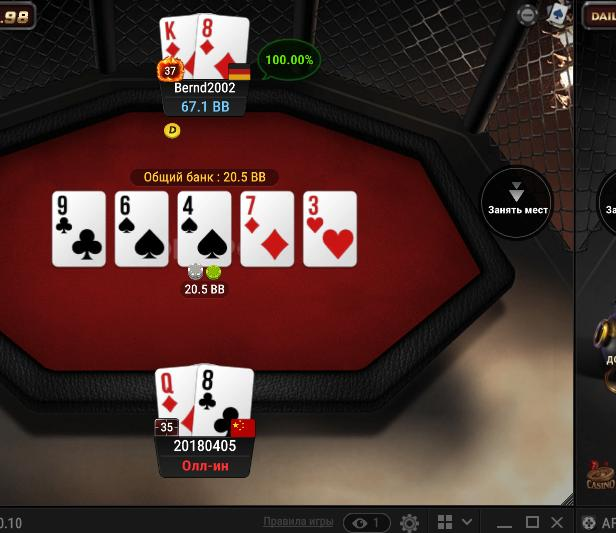3h: (304, 192, 356, 267)
4s: (177, 190, 229, 264)
6s: (116, 193, 167, 267)
7d: (241, 191, 296, 268)
8c: (195, 364, 251, 437)
8d: (197, 11, 249, 80)
9c: (53, 191, 104, 268)
Kd: (161, 14, 198, 80)
Qd: (153, 367, 195, 437)
